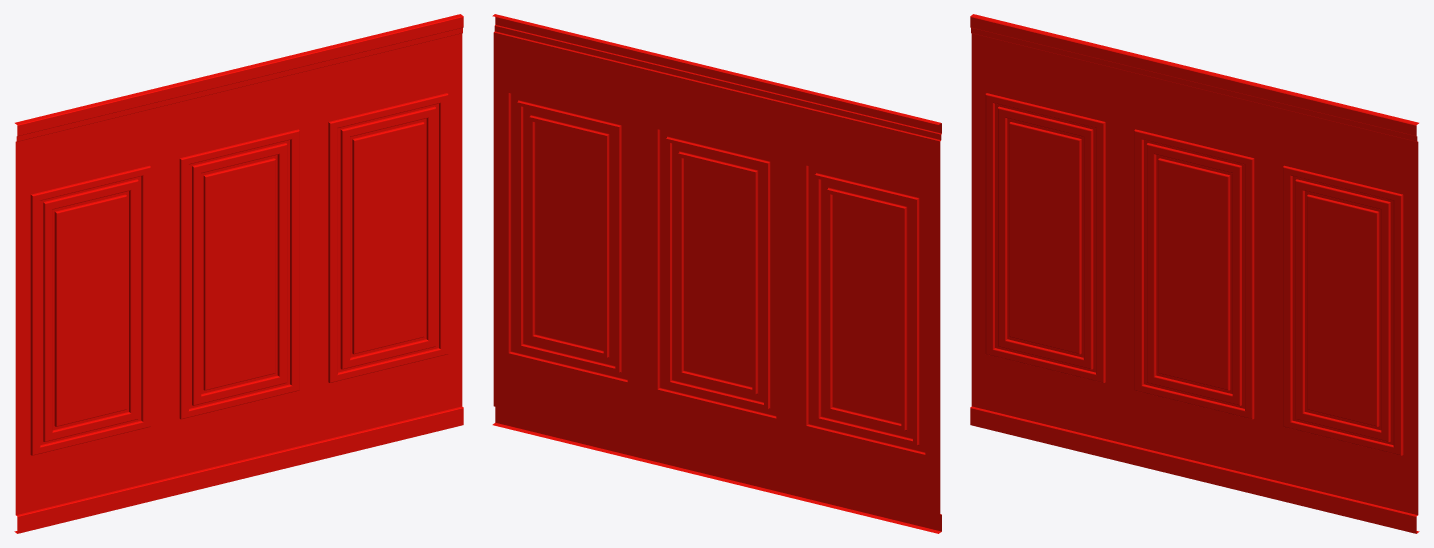
The model's file is KoshiKabe-3.fbx.
3 renders of one model, left to right at view 1: azimuth 30°, elevation 25°; view 2: azimuth 150°, elevation 25°; view 3: azimuth 330°, elevation 25°, orthographic.
Parts seen in each view (by area): view 1: KoshiKabe-3; view 2: KoshiKabe-3; view 3: KoshiKabe-3.
Part boxes in pixels (<box>): KoshiKabe-3: <box>14,14,463,533</box>; KoshiKabe-3: <box>492,14,941,533</box>; KoshiKabe-3: <box>970,14,1419,533</box>.
Size of the model in its own units: 0.96 by 0.84 by 0.012.
